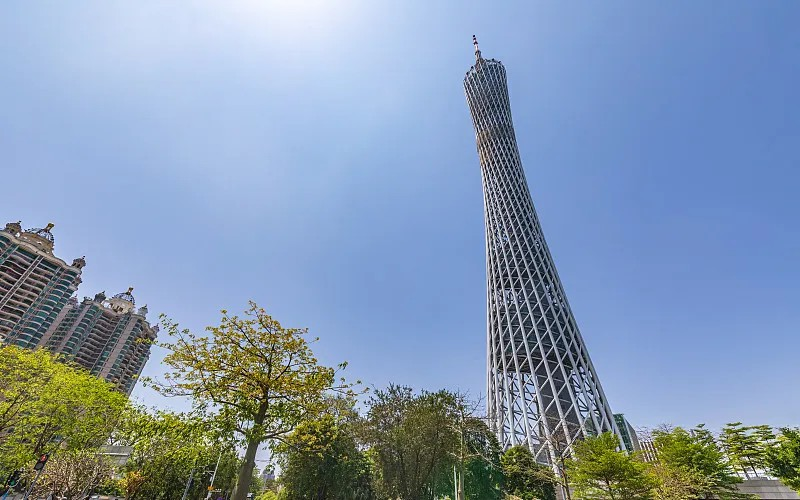Canton: (460, 29, 629, 500)
